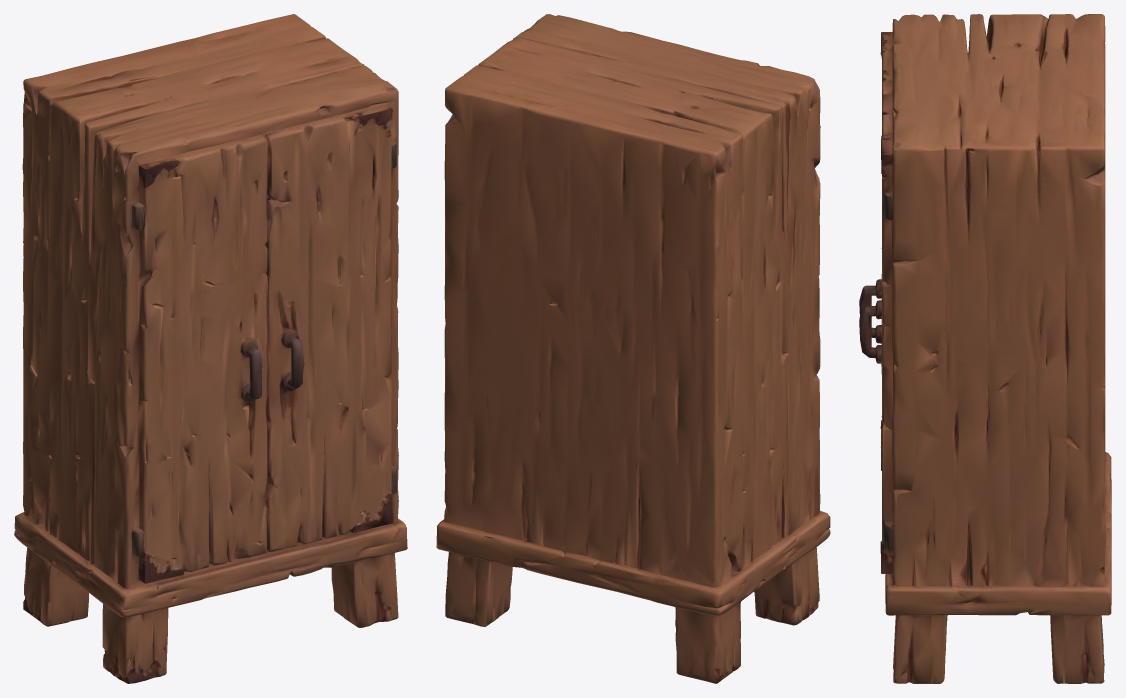
File: wardrobe_derevyannyy_dvustvorchatyy_idle.glb
3 views of the same model, side by side, from view 1: azimuth 30°, elevation 25°; view 2: azimuth 150°, elevation 25°; view 3: azimuth 270°, elevation 25° (orthographic).
Visible parts, largest first — view 1: tripo_node_0e7de455-4f24-4ea6-b487-e26ccca2b323; view 2: tripo_node_0e7de455-4f24-4ea6-b487-e26ccca2b323; view 3: tripo_node_0e7de455-4f24-4ea6-b487-e26ccca2b323.
Boxes of the visible parts, box(x1,y1,x2,y2) form: tripo_node_0e7de455-4f24-4ea6-b487-e26ccca2b323: box(14, 14, 407, 683); tripo_node_0e7de455-4f24-4ea6-b487-e26ccca2b323: box(436, 14, 830, 683); tripo_node_0e7de455-4f24-4ea6-b487-e26ccca2b323: box(859, 14, 1111, 683).
Size of the model in its own units: 1.13 by 2 by 0.8519.
1 material, 1 textured.
